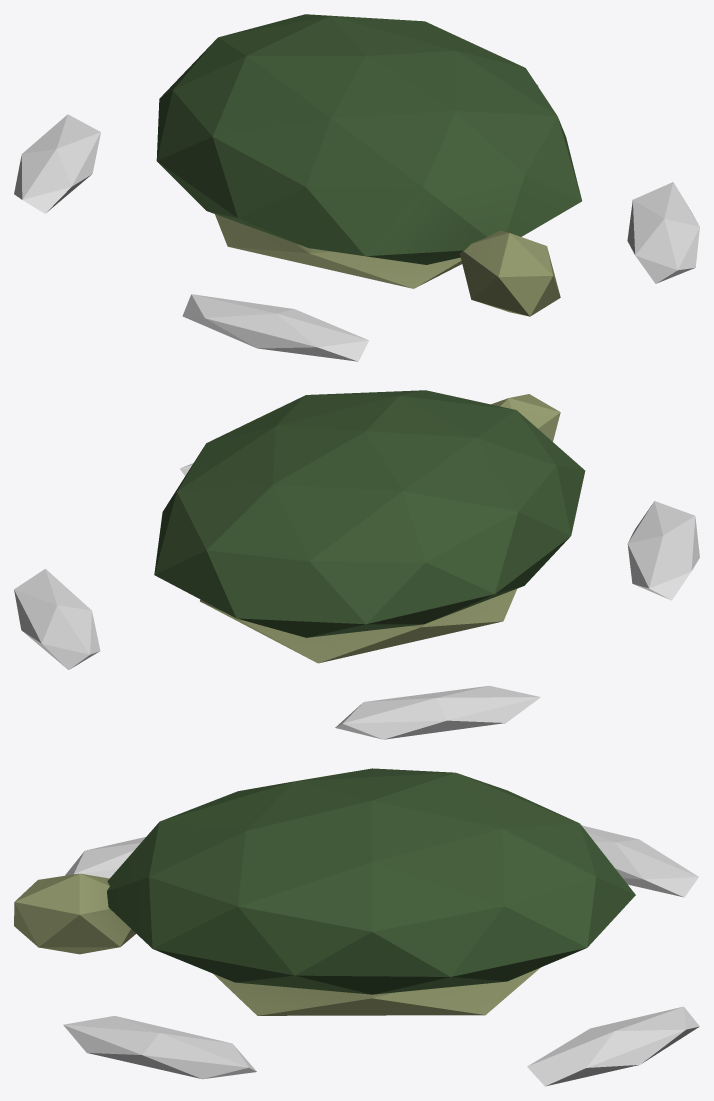
The model's file is Turtle.fbx.
3 views of the same model, one above another, from view 1: azimuth 30°, elevation 25°; view 2: azimuth 150°, elevation 25°; view 3: azimuth 270°, elevation 25° (orthographic). The views are drawn at different scales.
Parts seen in each view (by area): view 1: Turtle, FlipFR, FlipBR, FlipFL; view 2: Turtle, FlipBR, FlipBL, FlipFR; view 3: Turtle, FlipFL, FlipBL, FlipBR, FlipFR.
Part boxes in pixels (left/top/right/bottom): Turtle: left=156, top=14, right=581, bottom=316; FlipFR: left=182, top=294, right=368, bottom=361; FlipBR: left=14, top=114, right=100, bottom=213; FlipFL: left=627, top=182, right=699, bottom=283; Turtle: left=154, top=390, right=585, bottom=663; FlipBR: left=335, top=685, right=540, bottom=739; FlipBL: left=14, top=569, right=100, bottom=669; FlipFR: left=627, top=501, right=699, bottom=600; Turtle: left=14, top=768, right=635, bottom=1015; FlipFL: left=63, top=1016, right=256, bottom=1079; FlipBL: left=527, top=1006, right=699, bottom=1086; FlipBR: left=581, top=825, right=698, bottom=897; FlipFR: left=65, top=837, right=145, bottom=878.
Bounding box in the file's own units: 0.8738 × 0.2818 × 0.9852.
